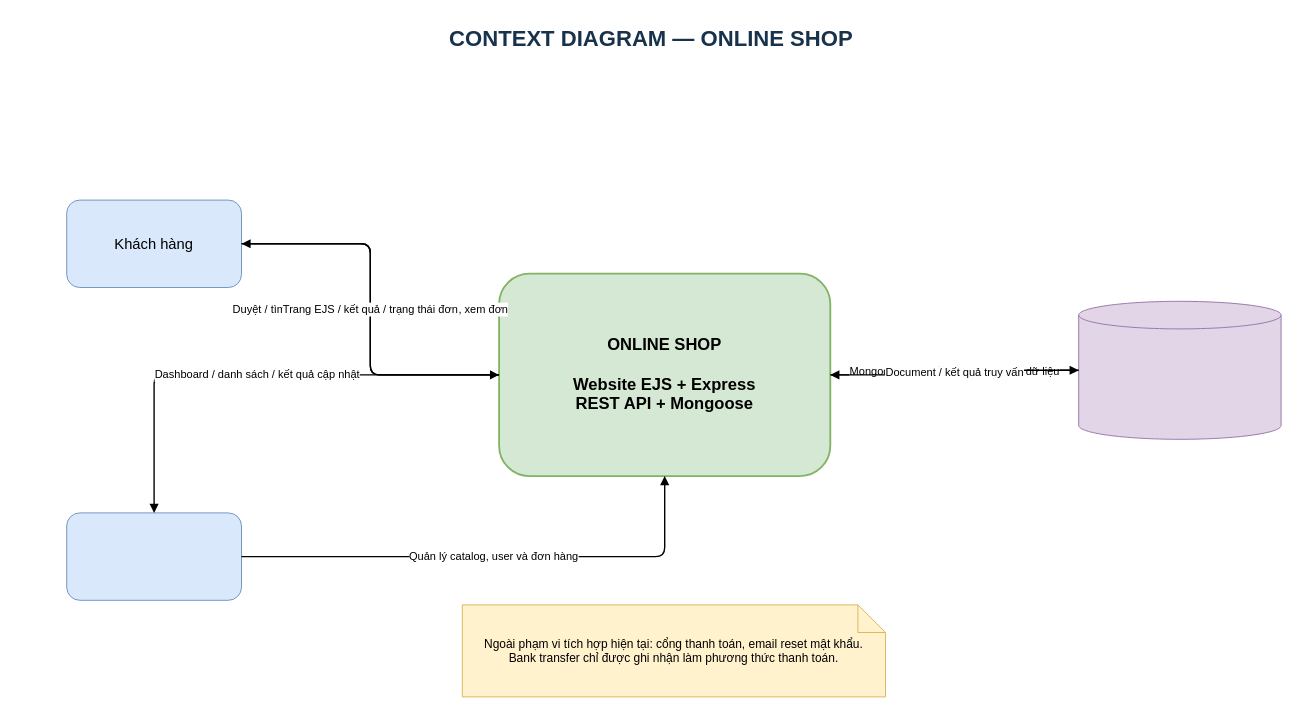
Some shapes in this 1301 by 713 pixel diagram are drawn without their labels. Each missing label, with the centre of its shape:
MongoDB: point 1179,369
Quản trị viên: point 154,556
